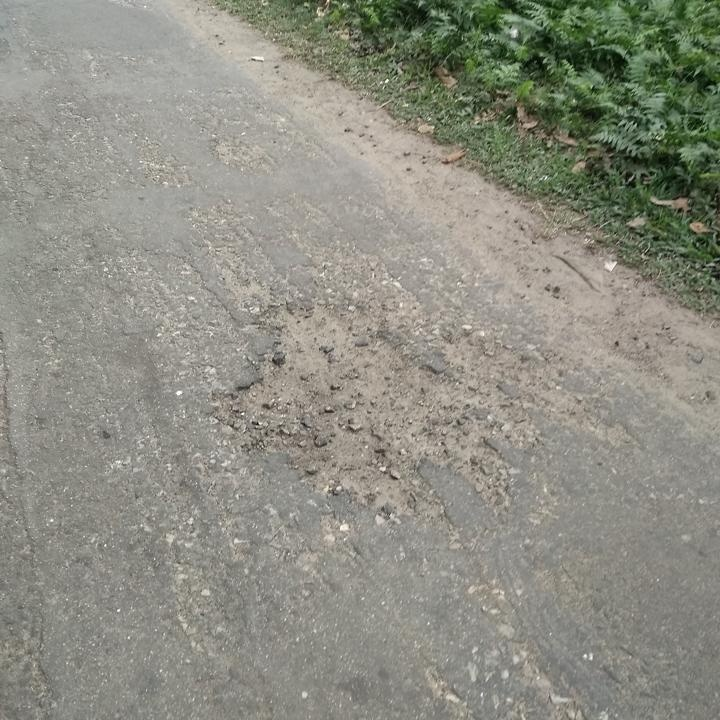pothole: (223, 294, 476, 505)
